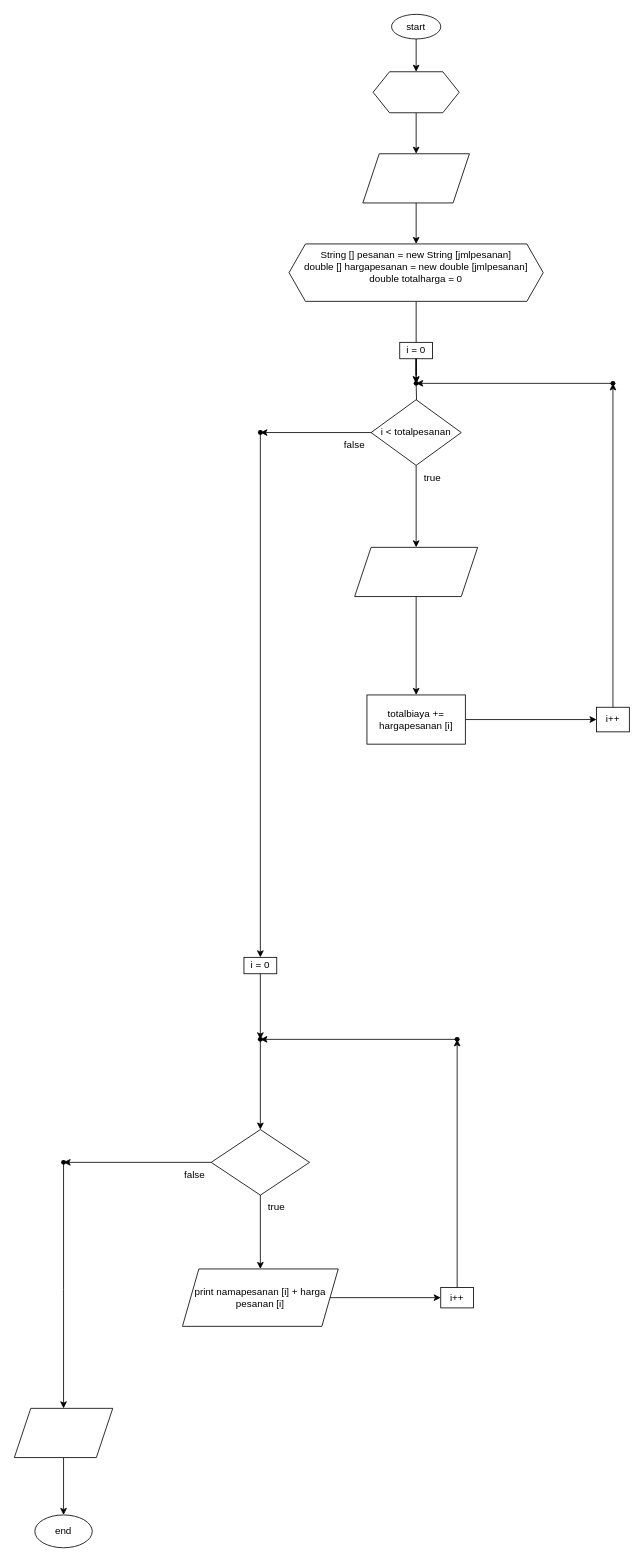
The diagram is 644 pixels wide and 1562 high, and some of its shapes have lost their labels. Here are the shapes that lost their labels. From the top down, the centre of each, then its label:
the point at 415,92: int totalpesanan
the point at 415,178: input totalpesanan
the point at 416,572: input namapesanan, hargapesanan
the point at 260,1162: i < jmlpesanan
the point at 63,1433: print totalbiaya
